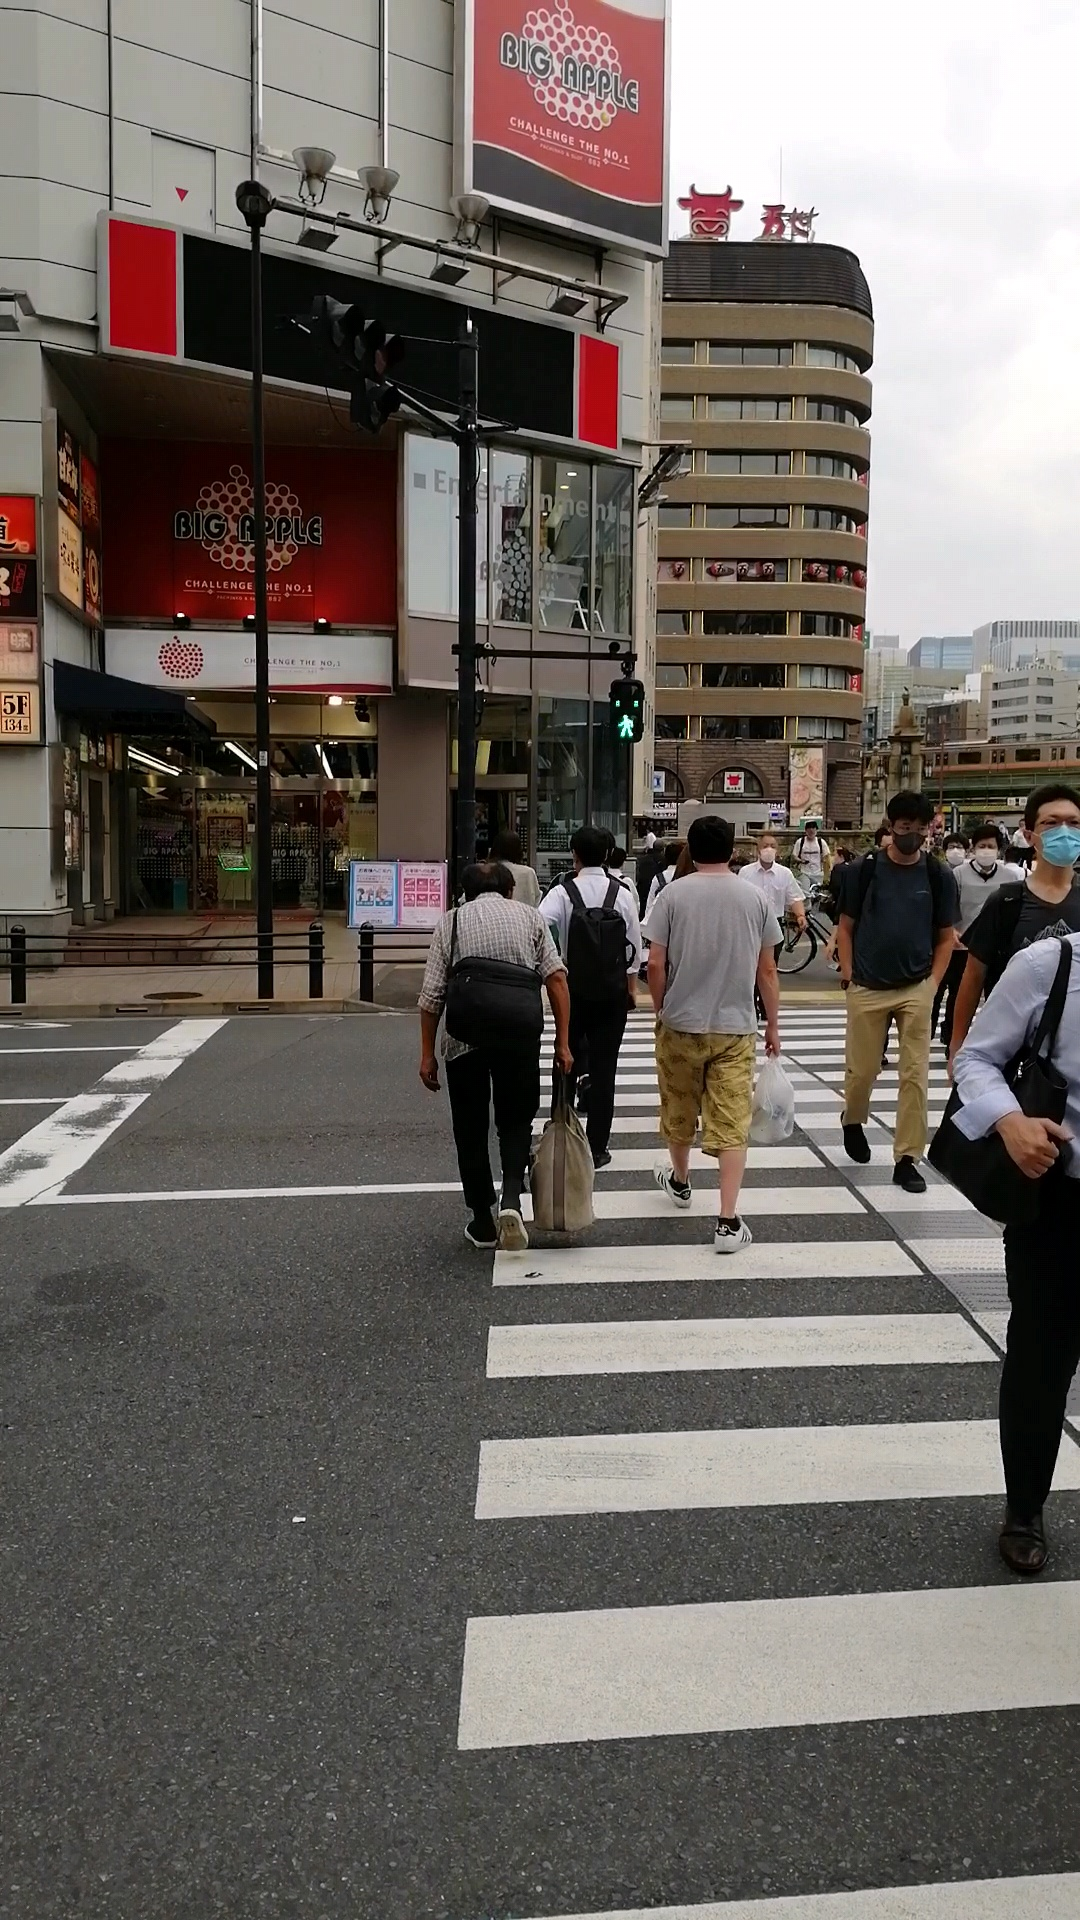green: (608, 678, 645, 742)
